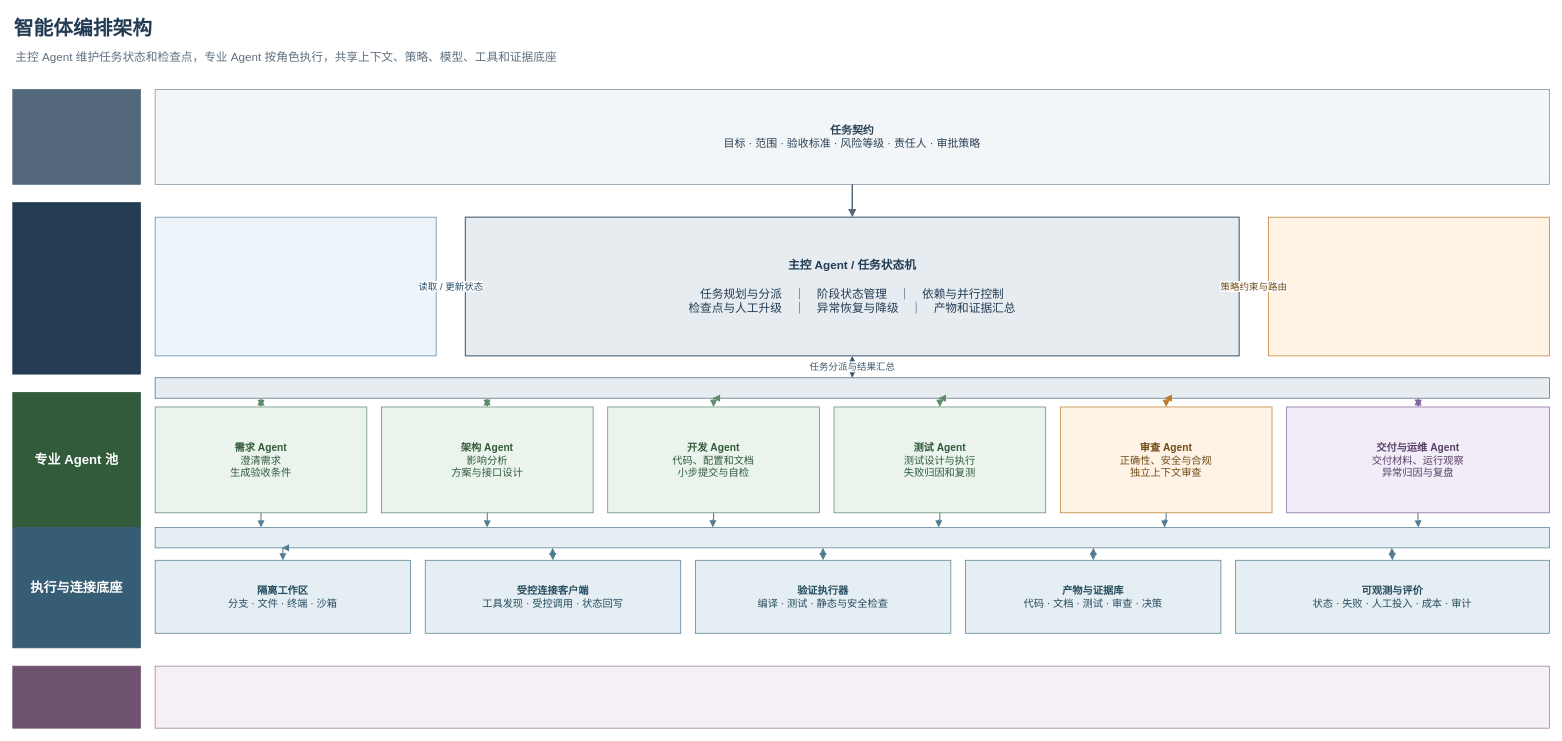
The diagram is 1562 pixels wide and 741 high, and some of its shapes have lost their labels. Each missing label, with the box of its shape:
主控任务调度与共享状态总线: (154, 377, 1549, 398)
任务输入: (12, 89, 141, 184)
任务输出: (12, 665, 141, 728)
共享任务状态与记忆 任务上下文 计划与依赖 产物与证据 决策及失败记录: (154, 216, 436, 356)
控制平面: (12, 202, 141, 374)
策略、风险与模型路由 风险分级与审批规则 工具和操作白名单 质量阈值与预算 模型选择、替换与降级: (1268, 216, 1549, 356)
统一工具执行、结果回传与证据总线: (154, 527, 1549, 548)
获批交付包 ｜ 测试与审查证据 ｜ 运行与审计记录 ｜ 改进后的知识、工作流技能、规则、流程模板和评价任务: (154, 665, 1549, 728)
